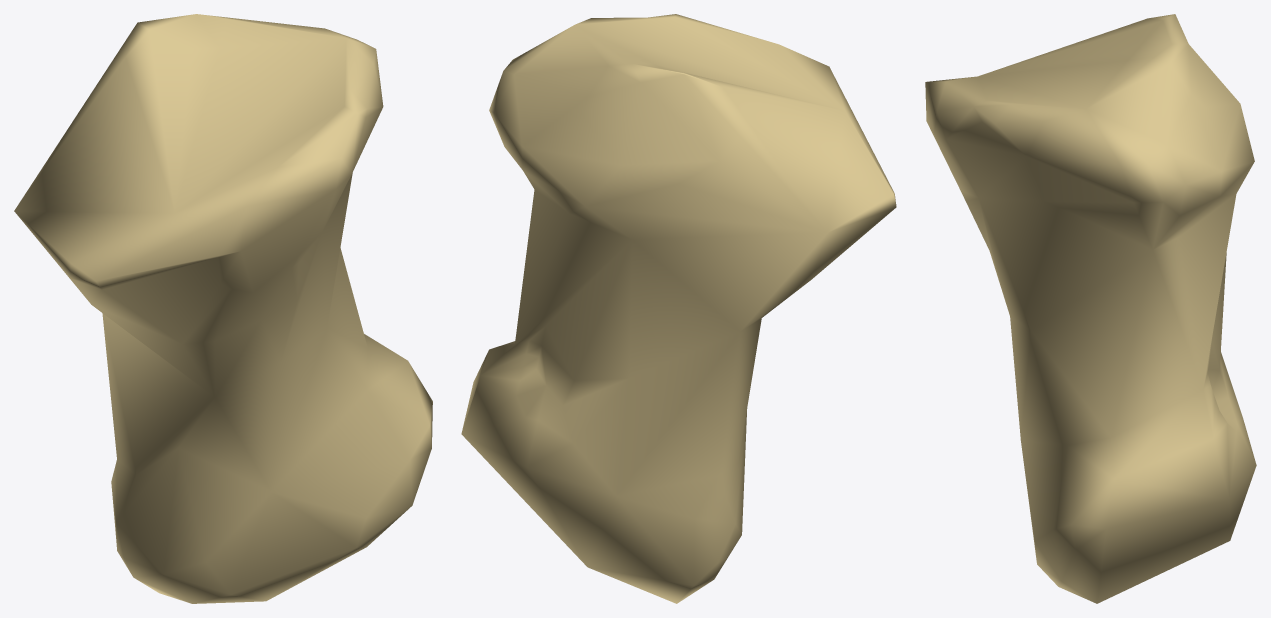
The picture shows the model from 3 angles, left to right: view 1: azimuth 30°, elevation 25°; view 2: azimuth 150°, elevation 25°; view 3: azimuth 270°, elevation 25°; orthographic projection. The views are drawn at different scales.
Parts seen in each view (by area): view 1: 左侧第二趾远节趾骨; view 2: 左侧第二趾远节趾骨; view 3: 左侧第二趾远节趾骨.
Boxes of the visible parts, x1,y1,x2,y2 form: 左侧第二趾远节趾骨: (14,14,432,603); 左侧第二趾远节趾骨: (461,14,896,603); 左侧第二趾远节趾骨: (925,14,1256,603).
Bounding box in the file's own units: 0.015 × 0.0201 × 0.0112.
